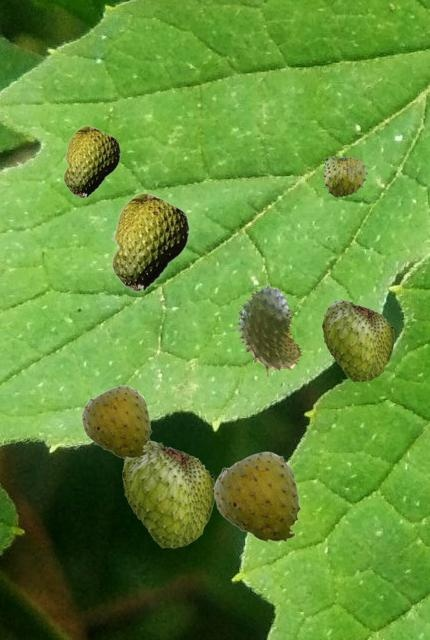guyabano: (122, 440, 214, 547), (212, 451, 300, 543), (110, 192, 189, 292), (235, 283, 301, 376), (322, 298, 393, 381), (80, 385, 151, 459), (62, 125, 120, 198), (322, 154, 367, 196)
